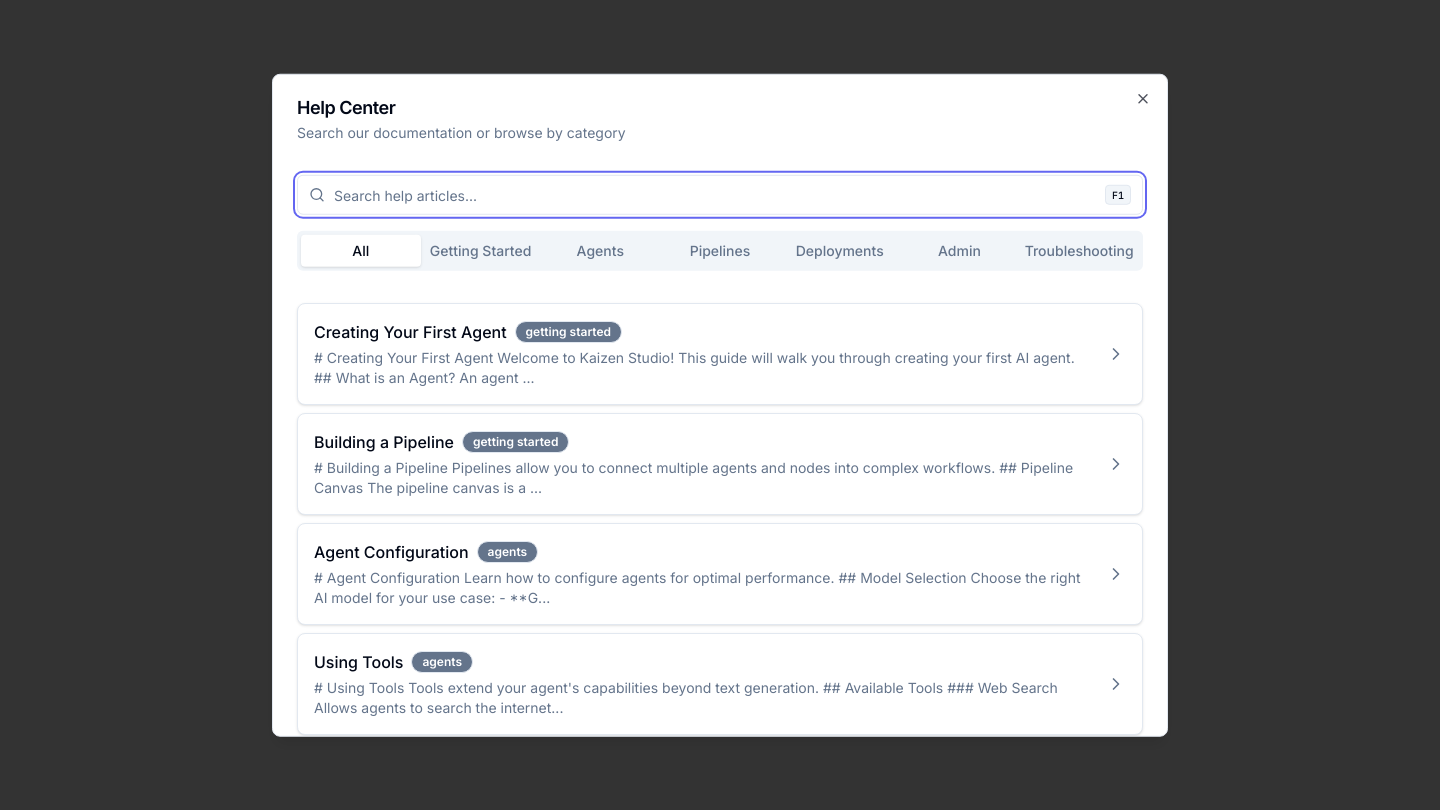
Test case: HelpDialog › should update selected category in store
What coordinates should you click on to do the following:
click the tab "Pipelines"
I would click on:
 (720, 251)
Its box is [660,235,780,267].
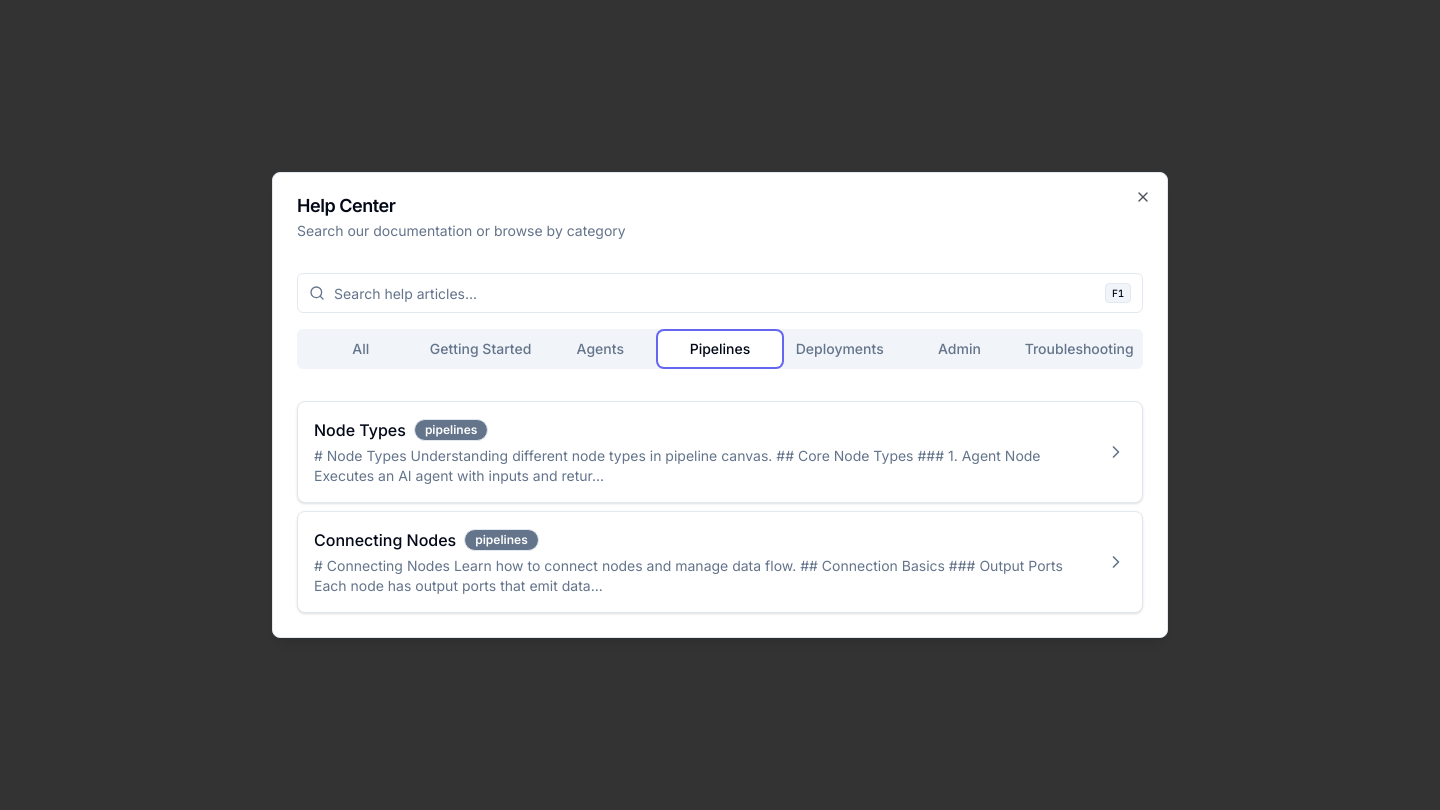
Result: the 1st text "pipelines" is shown at [414,419,488,441]
